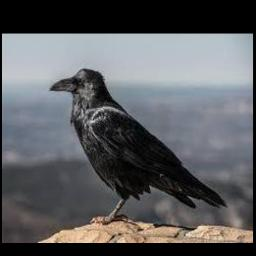Crow: (50, 68, 229, 225)
